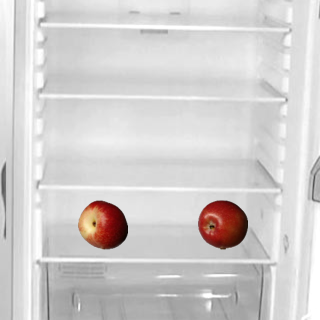Apple Braeburn: (197, 199, 247, 249)
Nectarine: (77, 199, 127, 249)
